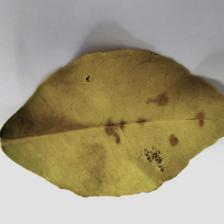canker: (10, 101, 210, 182)
